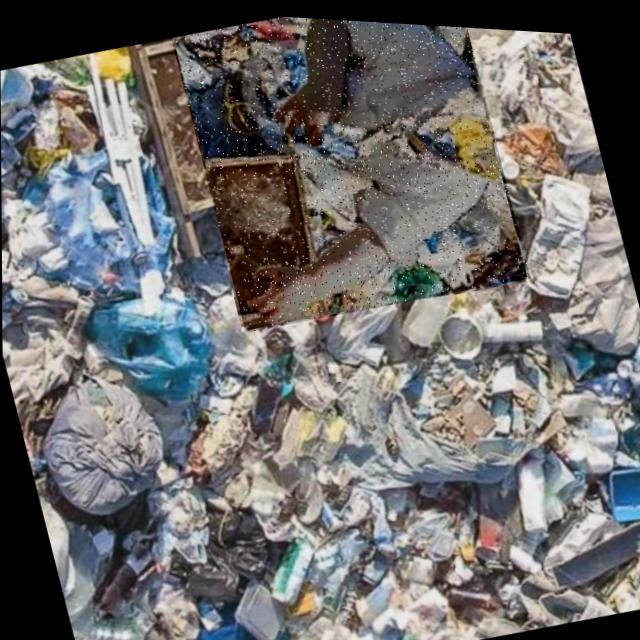Person in Rubble: (169, 8, 529, 342)
